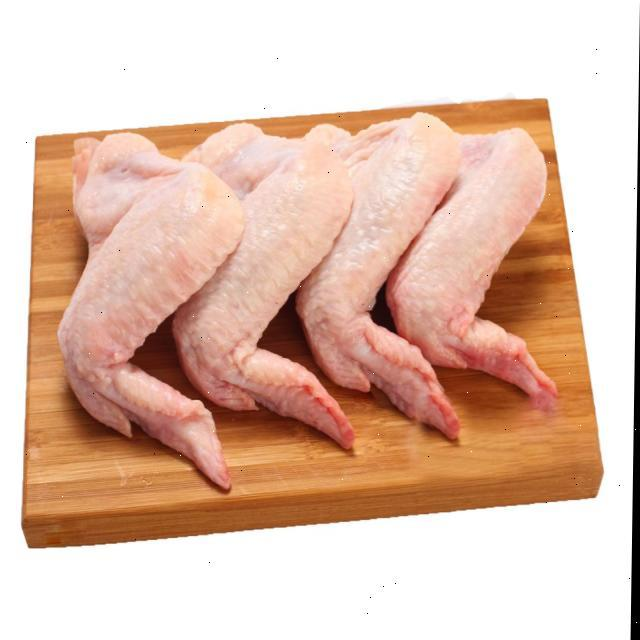wing: (55, 138, 240, 492), (186, 110, 350, 470), (384, 126, 556, 412), (324, 110, 458, 442)
